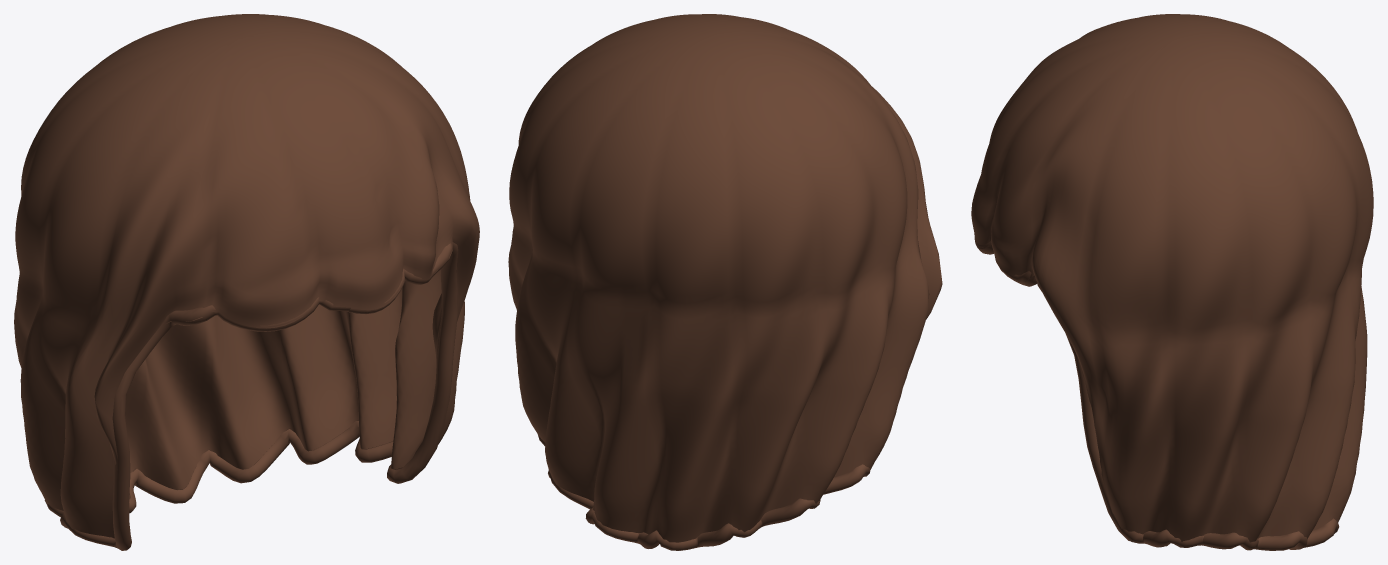
Rendered from hair_g_longperm.glb.
The picture shows the model from 3 angles, left to right: view 1: azimuth 30°, elevation 25°; view 2: azimuth 150°, elevation 25°; view 3: azimuth 270°, elevation 25°; orthographic projection. The views are drawn at different scales.
Parts seen in each view (by area): view 1: Hair_G_LONGPERM; view 2: Hair_G_LONGPERM; view 3: Hair_G_LONGPERM.
Boxes of the visible parts, left/top/right/bottom form: Hair_G_LONGPERM: left=14, top=14, right=479, bottom=550; Hair_G_LONGPERM: left=508, top=14, right=942, bottom=550; Hair_G_LONGPERM: left=971, top=14, right=1373, bottom=550.
Size of the model in its own units: 0.6417 by 0.7678 by 0.5692.
